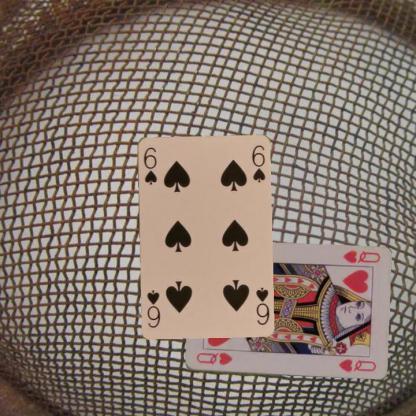6s: (141, 144, 158, 186), (253, 284, 270, 326)
Qh: (194, 349, 234, 367), (340, 248, 382, 264)
